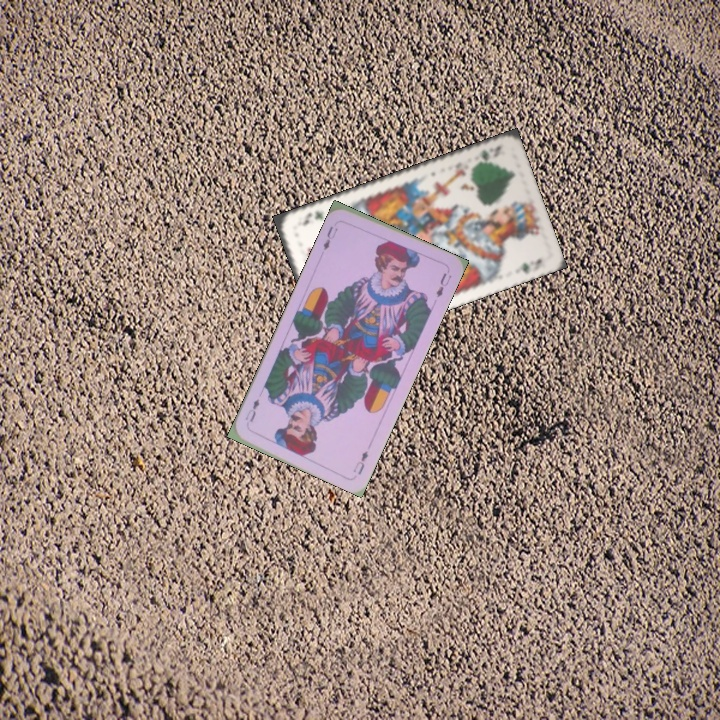EU: (349, 447, 371, 478), (319, 222, 340, 253)
GK: (470, 142, 504, 167)
